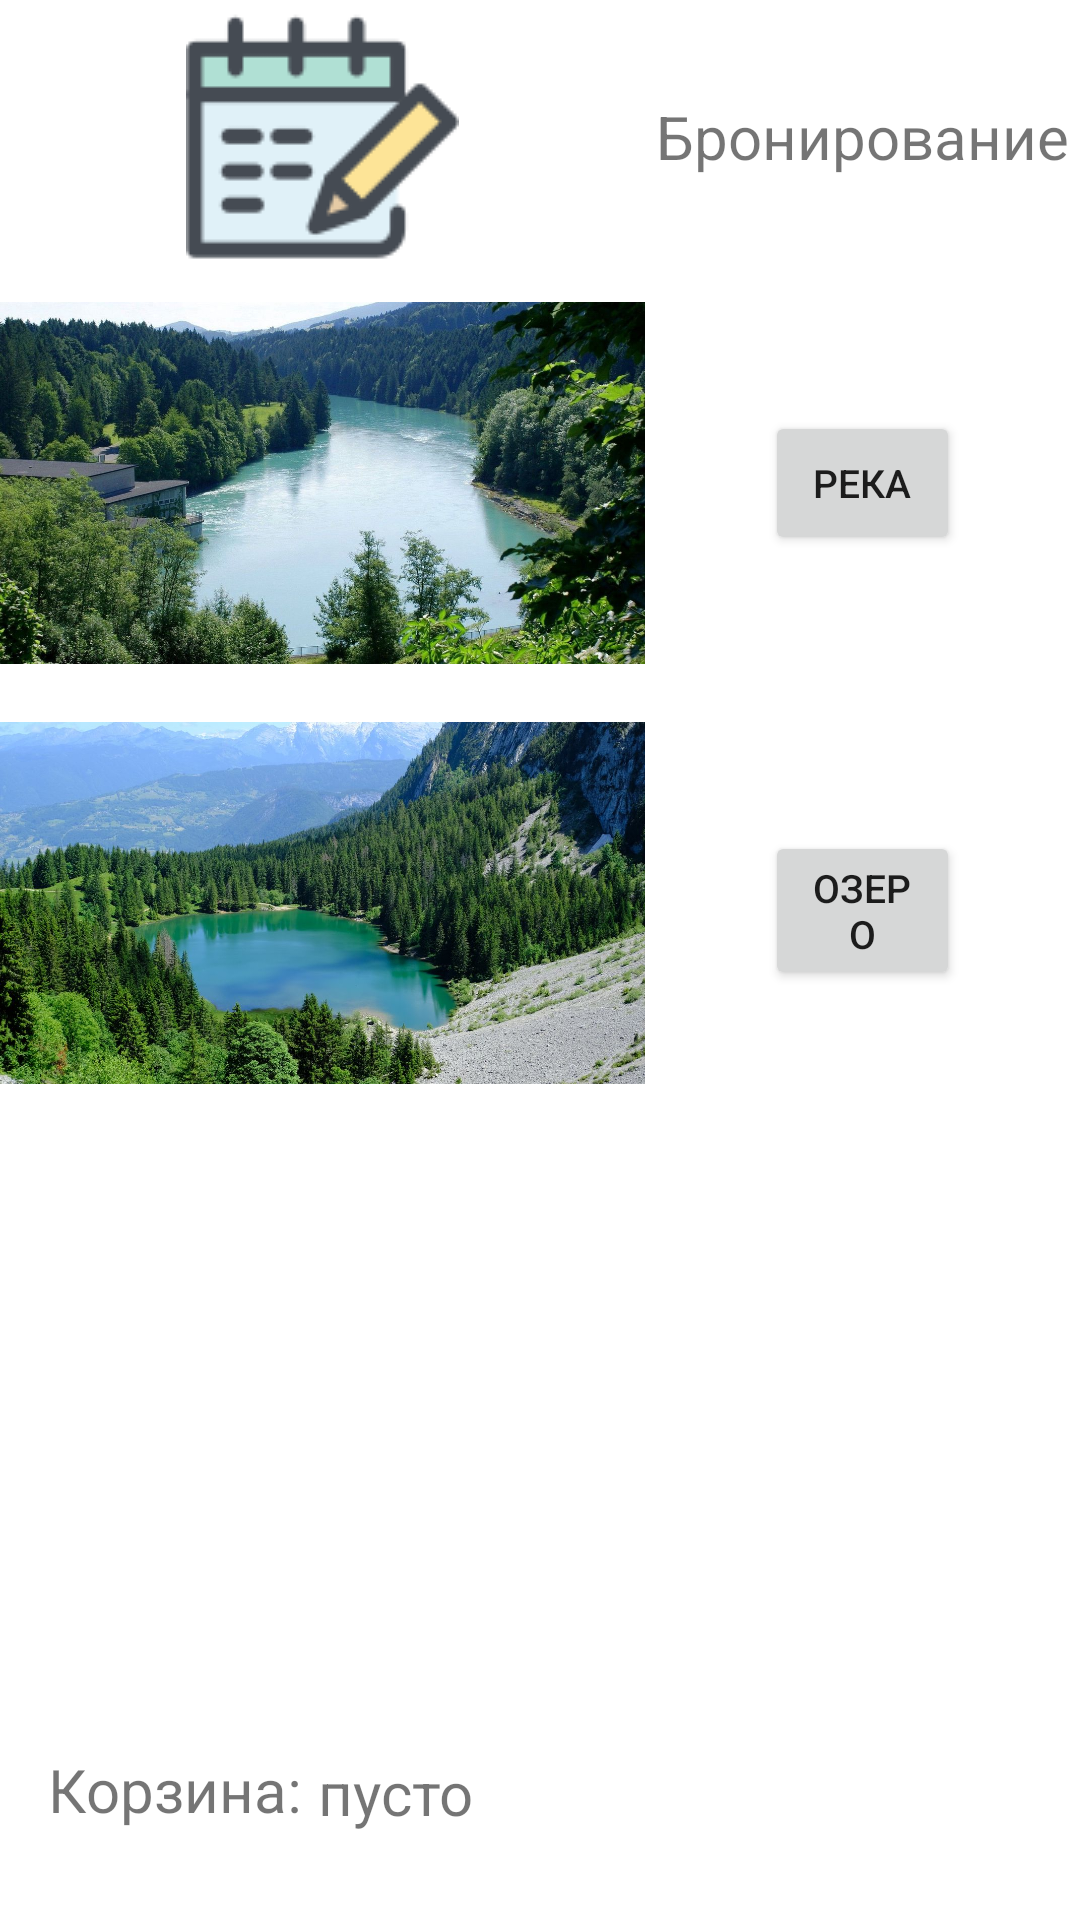

Where icons sit on this 1080*1920 app screen, as rect(x1, y1, x2, y2):
booking: rect(186, 16, 459, 259)
